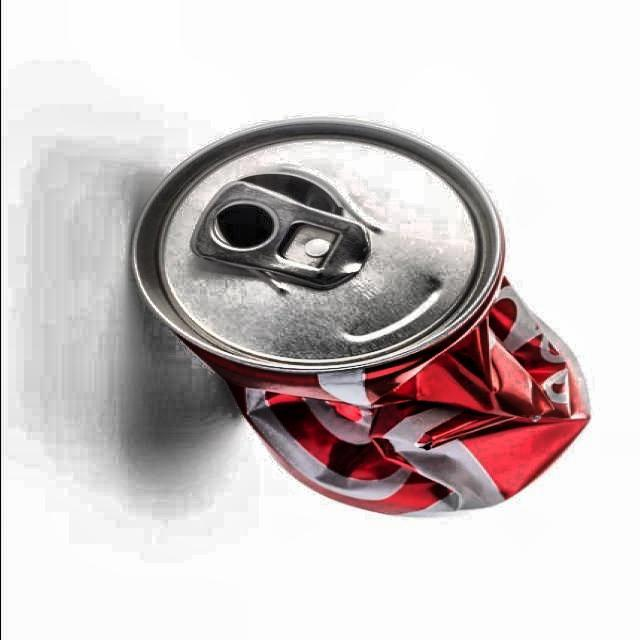metal: (133, 120, 592, 519)
